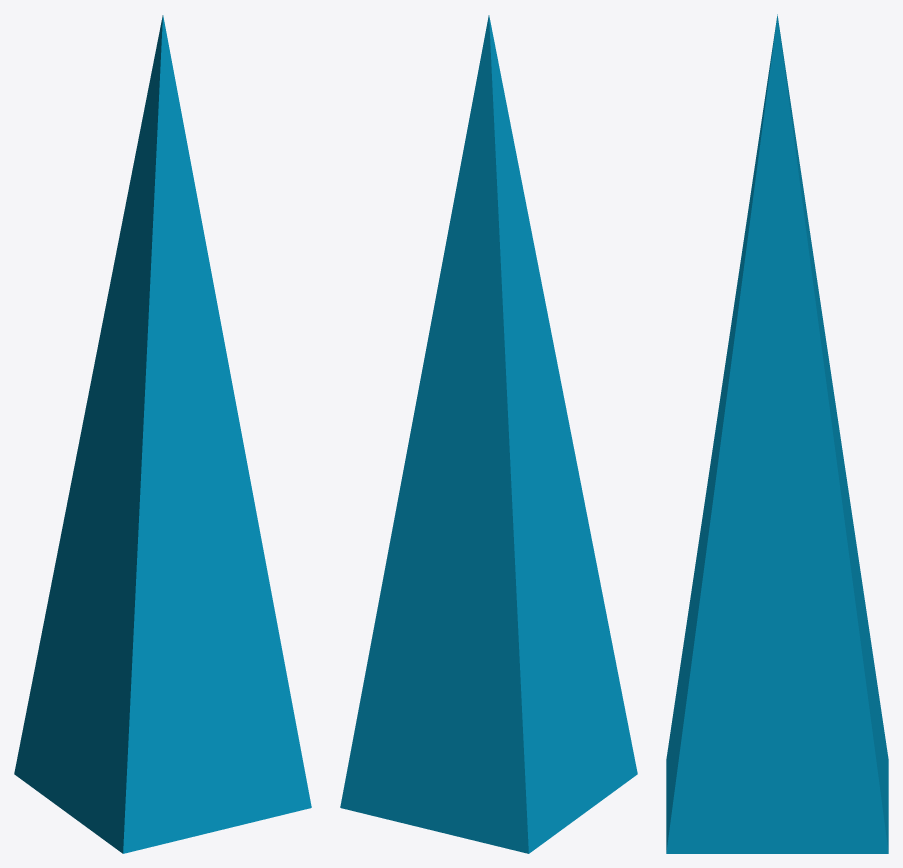
The model's file is spuntone_blu.fbx.
3 renders of one model, left to right at view 1: azimuth 30°, elevation 25°; view 2: azimuth 150°, elevation 25°; view 3: azimuth 270°, elevation 25°, orthographic. The views are drawn at different scales.
Visible parts, largest first — view 1: Proiettile; view 2: Proiettile; view 3: Proiettile.
Boxes of the visible parts, <box> form: Proiettile: <box>14,15,311,853</box>; Proiettile: <box>340,15,637,853</box>; Proiettile: <box>666,14,888,853</box>.
Bounding box in the file's own units: 9.52 × 37.46 × 9.52.
